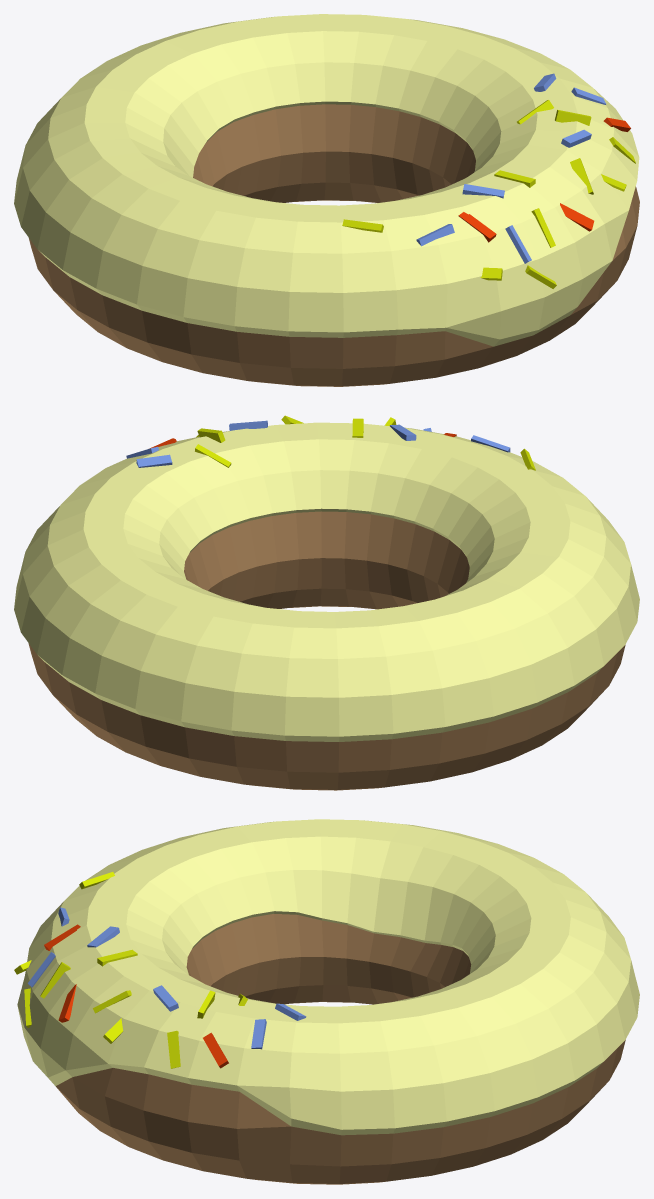
Rendered from ponchik (2).fbx.
3 views of the same model, one above another, from view 1: azimuth 30°, elevation 25°; view 2: azimuth 150°, elevation 25°; view 3: azimuth 270°, elevation 25° (orthographic).
Parts seen in each view (by area): view 1: Torus.001; view 2: Torus.001; view 3: Torus.001.
Part boxes in pixels (x1,y1,x2,y2): Torus.001: (14, 14, 639, 386); Torus.001: (14, 415, 639, 790); Torus.001: (14, 819, 639, 1184).
Bounding box in the file's own units: 431 × 134 × 434.
